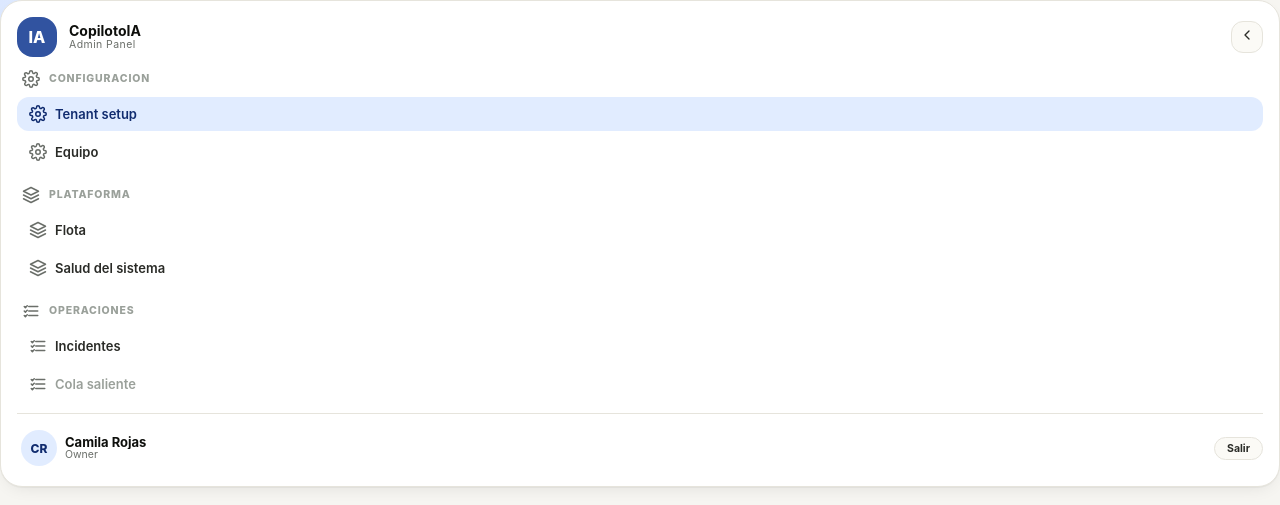
Test case: <ShellSidebar/> — UI-019 › click en el toggle colapsa el sidebar y persiste en localStorage
Click the button named "Colapsar barra lateral".
click(1247, 37)  # box [1231,21,1263,53]
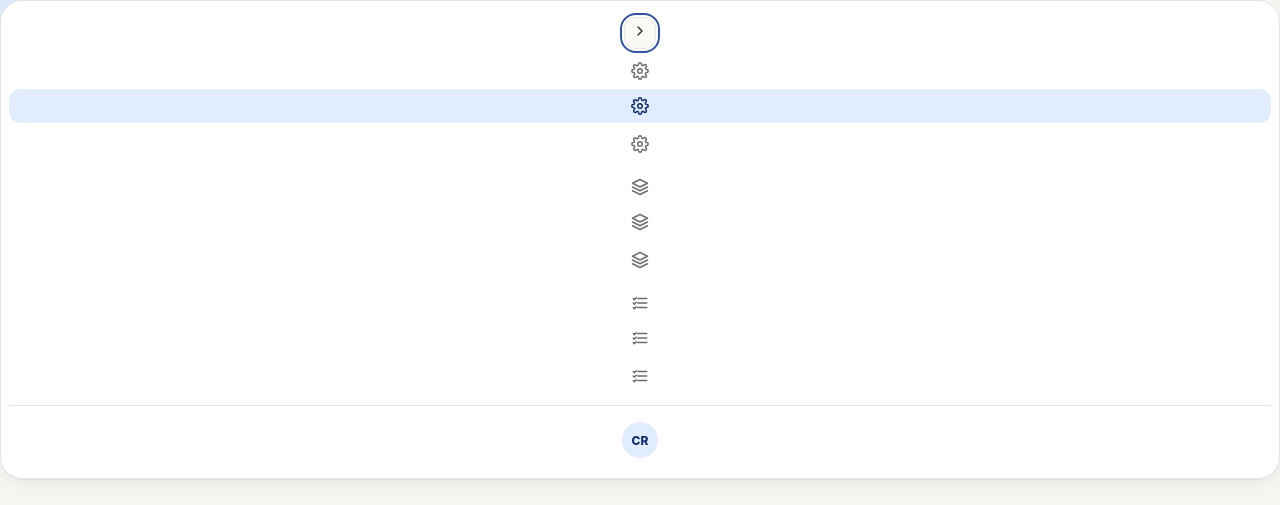
Result: the button named "Expandir barra lateral" is shown at [624,17,656,49]
